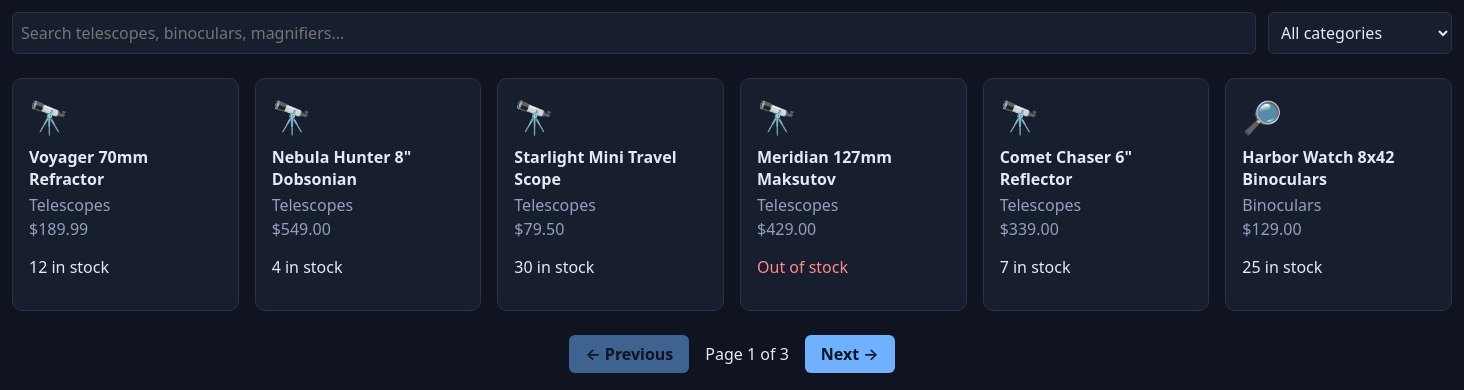
Test case: CatalogPage search › shows an empty-state message when nothing matches
expect the heading "Voyager 70mm Refractor" is shown: met, box [29,146,148,190]
In the search field named "Search products": (634, 33) [12,12,1256,54], type "nonexistent-product-xyz"
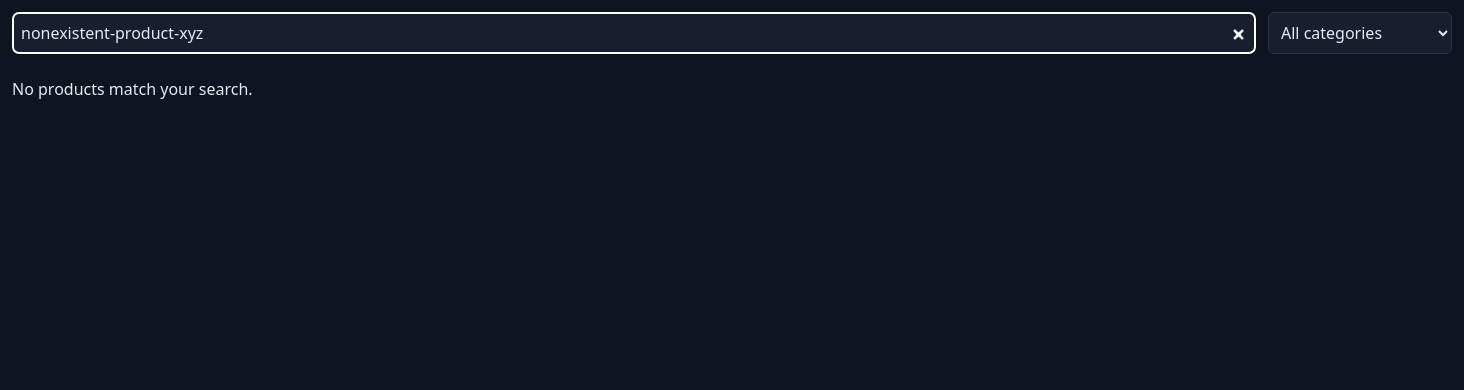
expect the text "No products match your search." is shown: met, box [12,78,253,100]
